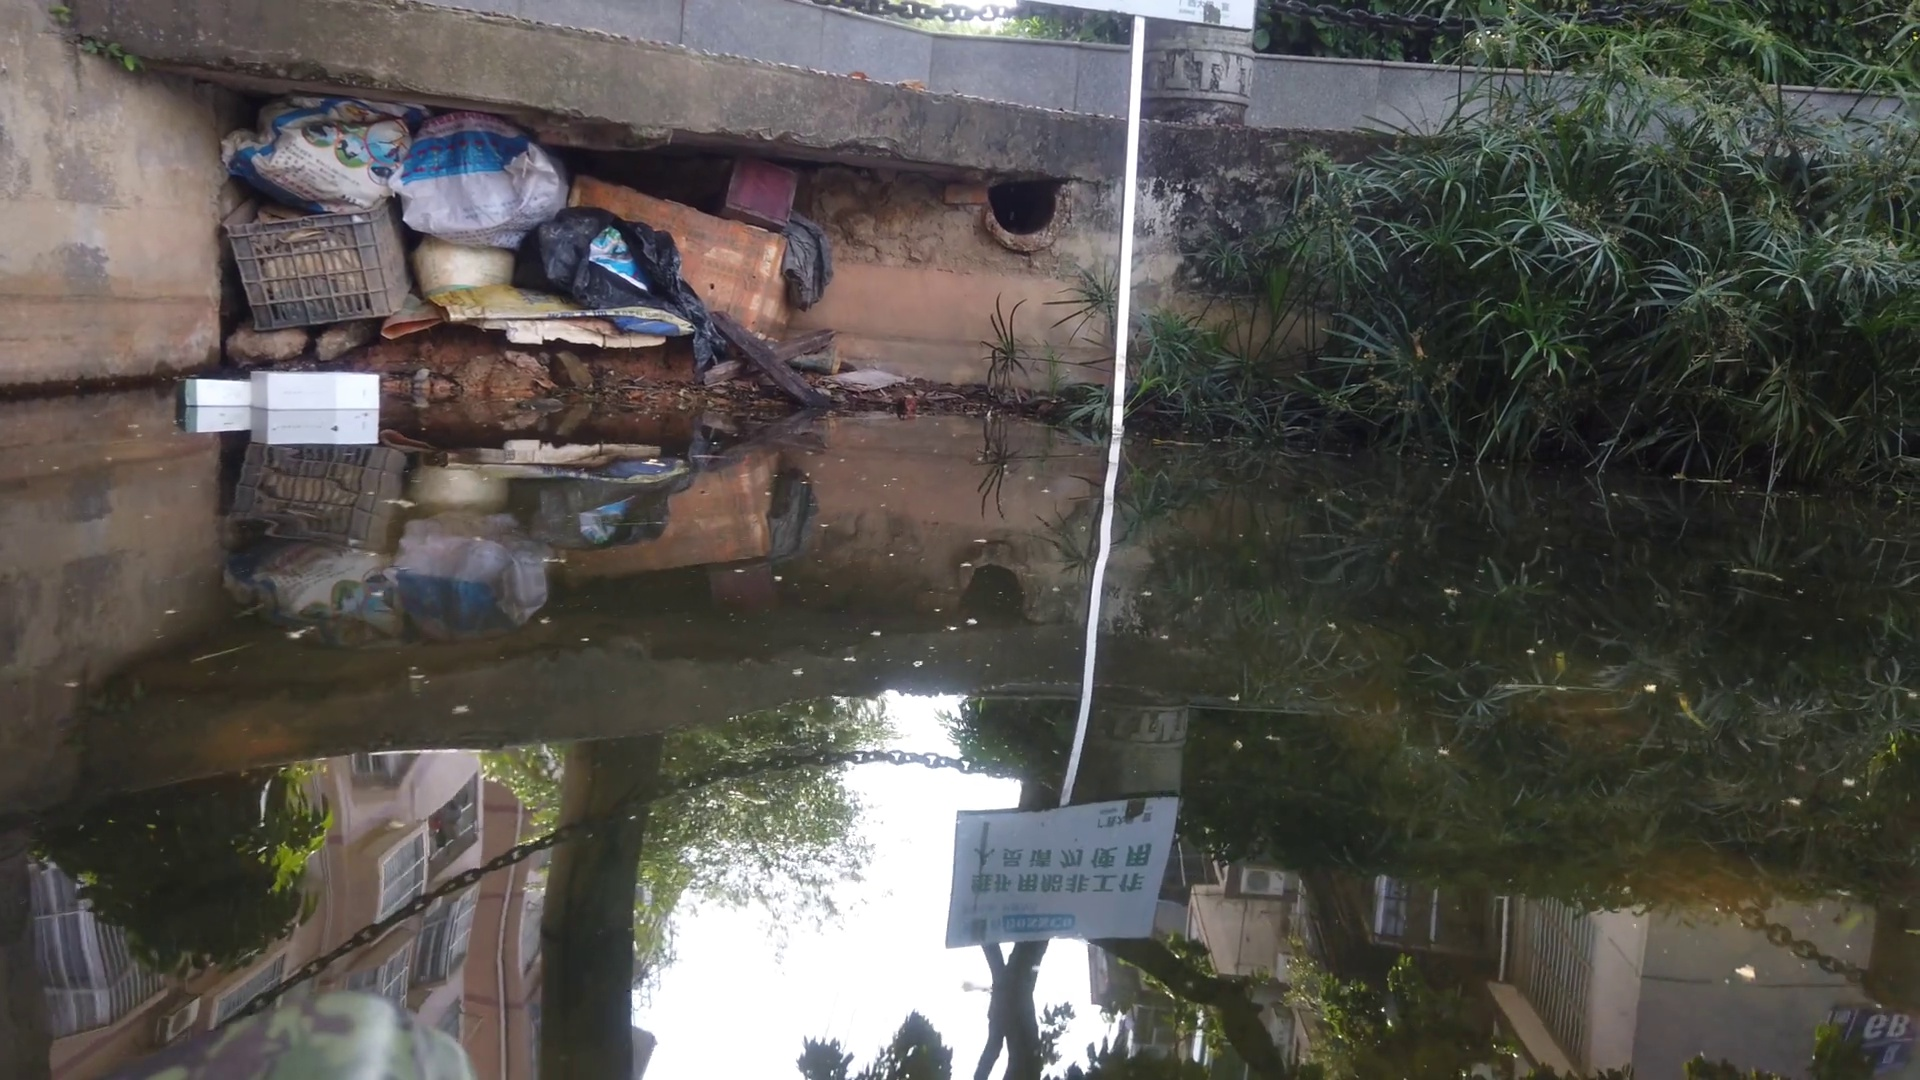carton: (247, 367, 382, 414), (181, 376, 255, 407)
